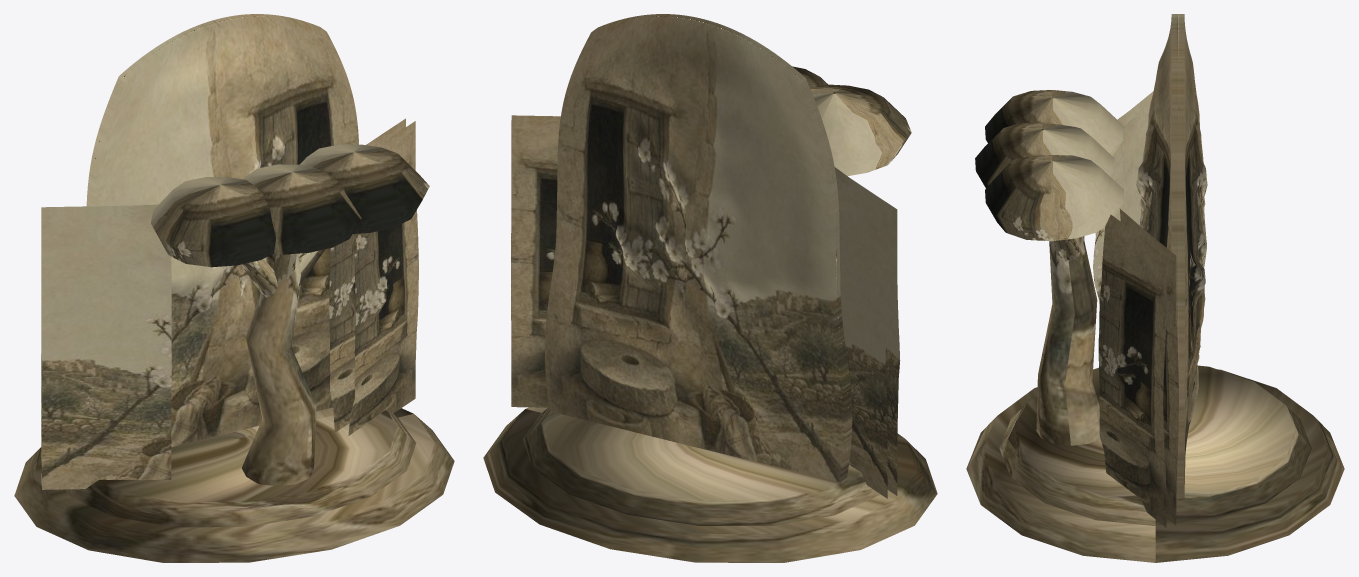
Rendered from eternity-in-their-hearts-34.glb.
3 renders of one model, left to right at view 1: azimuth 30°, elevation 25°; view 2: azimuth 150°, elevation 25°; view 3: azimuth 270°, elevation 25°, orthographic. The views are drawn at different scales.
Parts seen in each view (by area): view 1: PaintingSculptureMonument; view 2: PaintingSculptureMonument; view 3: PaintingSculptureMonument.
Boxes of the visible parts, x1,y1,x2,y2 form: PaintingSculptureMonument: [14, 14, 454, 562]; PaintingSculptureMonument: [483, 14, 937, 562]; PaintingSculptureMonument: [966, 14, 1344, 562].
Size of the model in its own units: 2.76 by 2.99 by 2.35.
Materials: 1 (1 with a texture image).
